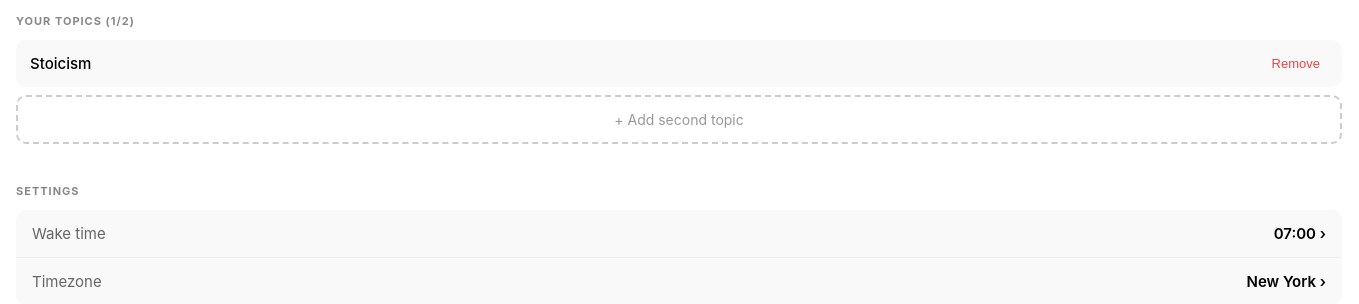
Test: ScreenDashboard › tapping add-topic slot reveals an input
Click the text with test id "add-topic-slot".
click(679, 120)  # box [16,95,1342,144]
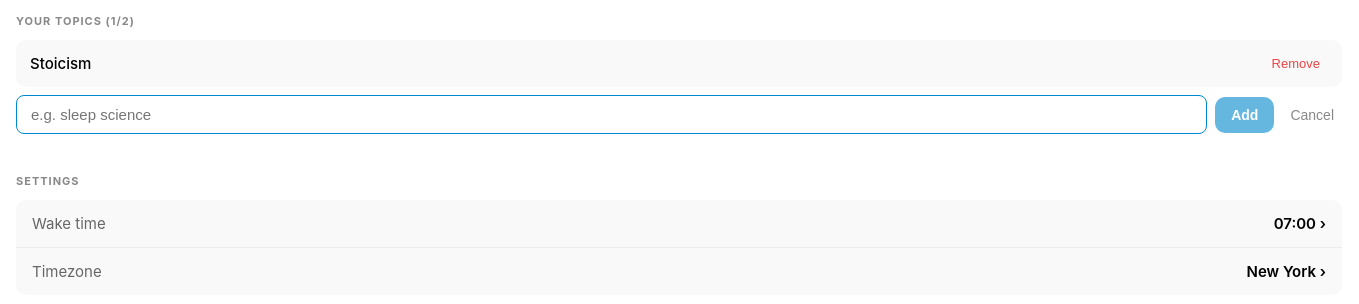
Expected: the field with test id "add-topic-input" is shown, [16,95,1207,134]
